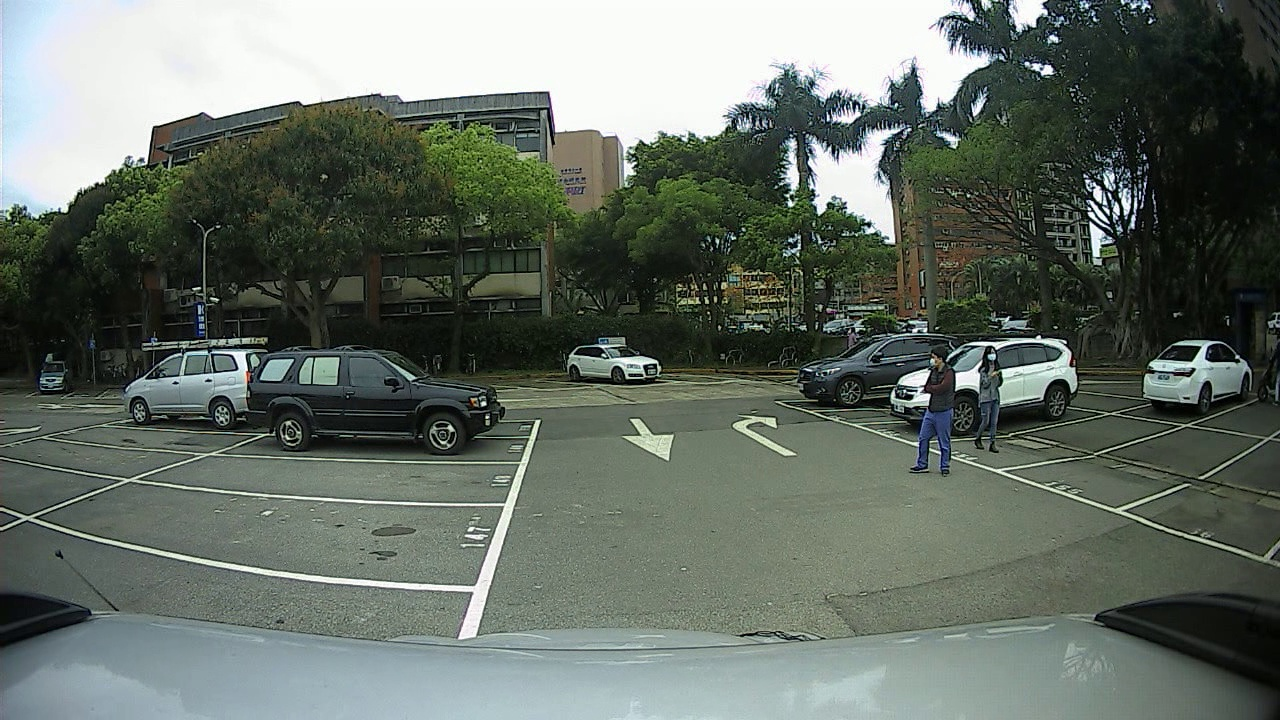car: (251, 339, 519, 454), (101, 332, 263, 429), (778, 316, 921, 401), (1122, 331, 1265, 416), (563, 324, 670, 388)
person: (915, 344, 968, 482), (963, 332, 1016, 470)
